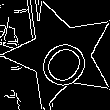O_NE: (27, 21, 95, 89)
